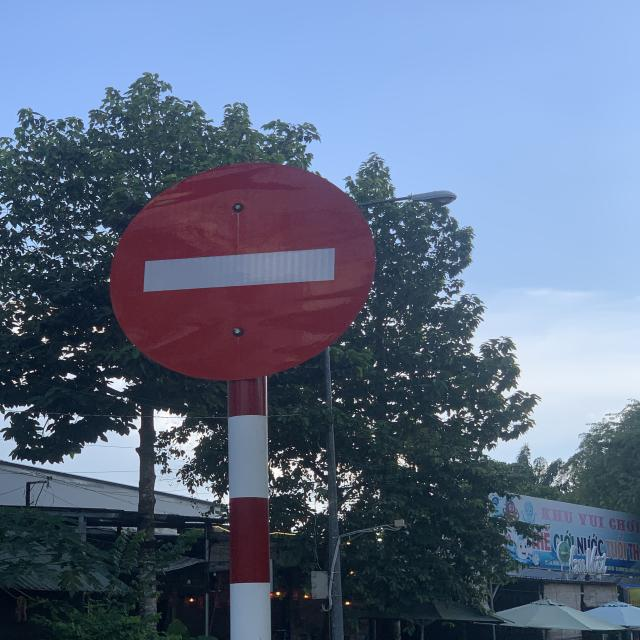Cam_Di_Nguoc_Chieu: (107, 160, 378, 385)
